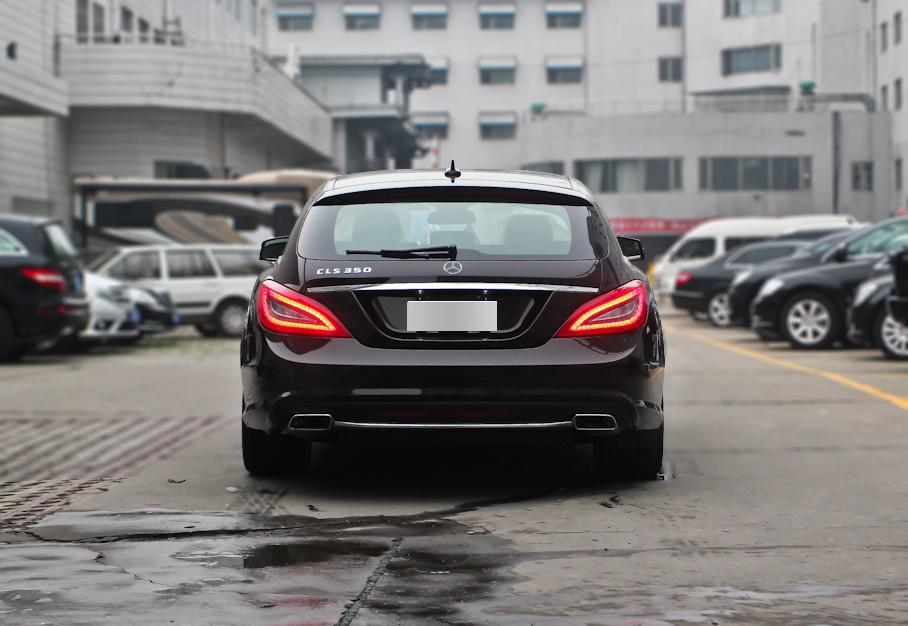Wagon: (238, 159, 667, 480)
